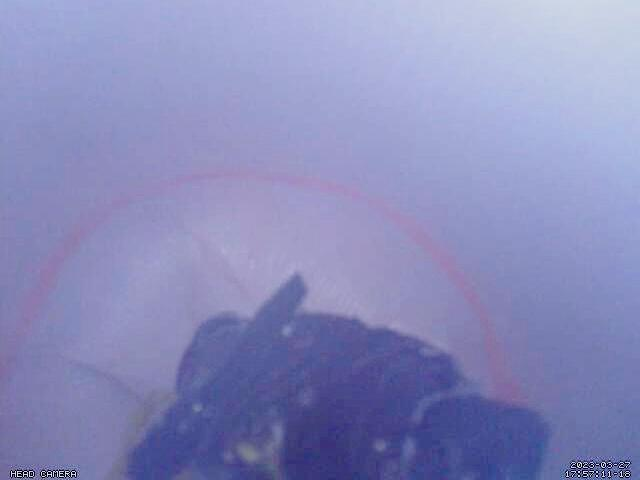head: (1, 168, 529, 412)
